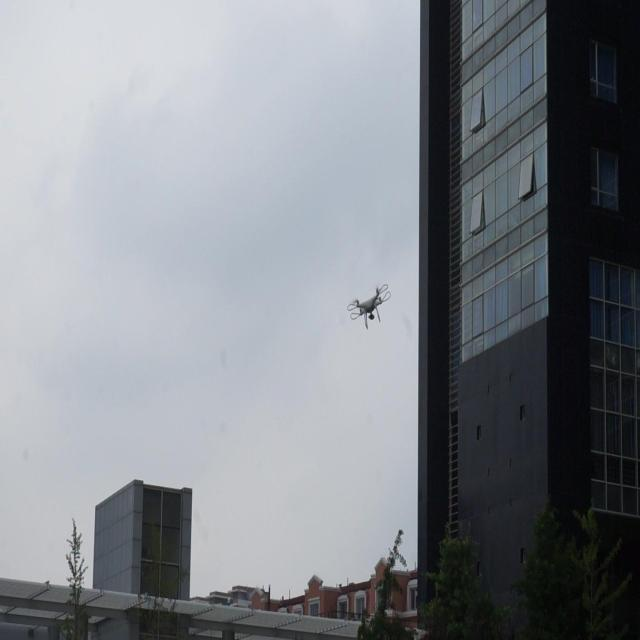drone: (346, 282, 391, 330)
